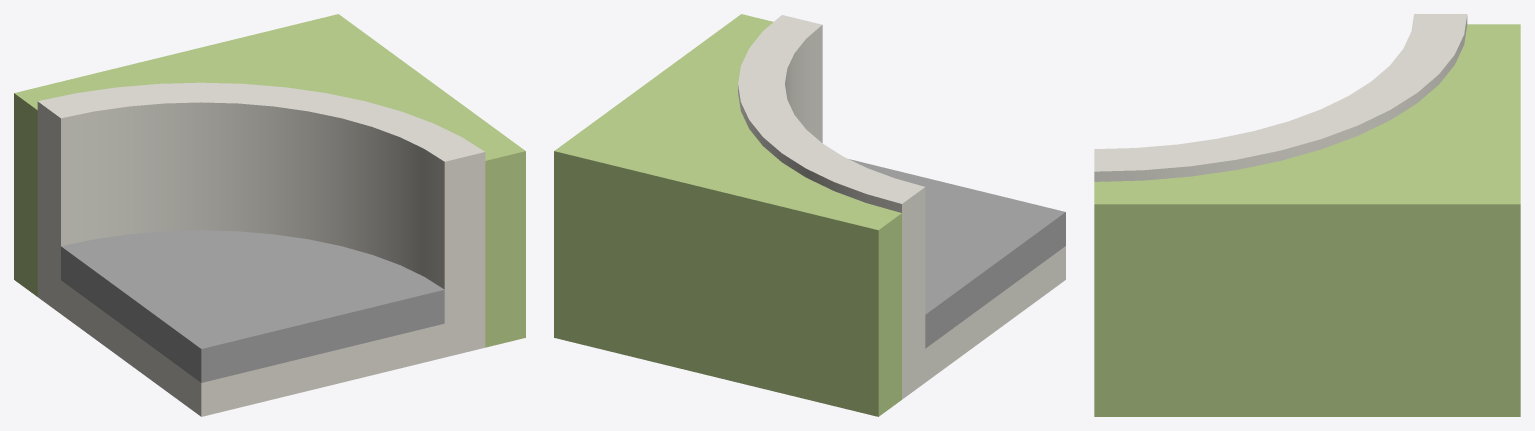
File: tile244.gltf
The picture shows the model from 3 angles, left to right: view 1: azimuth 30°, elevation 25°; view 2: azimuth 150°, elevation 25°; view 3: azimuth 270°, elevation 25°; orthographic projection. The views are drawn at different scales.
Visible parts, largest first — view 1: tile244; view 2: tile244; view 3: tile244.
Boxes of the visible parts, left/top/right/bottom form: tile244: left=14, top=14, right=525, bottom=416; tile244: left=554, top=14, right=1065, bottom=416; tile244: left=1094, top=14, right=1520, bottom=416.
Bounding box in the file's own units: 1 × 0.5767 × 1.
